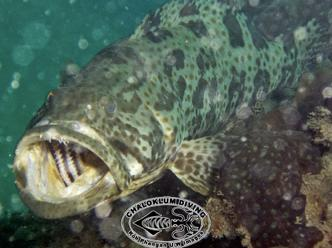Serranidae -Groupers-: (6, 0, 324, 224)
